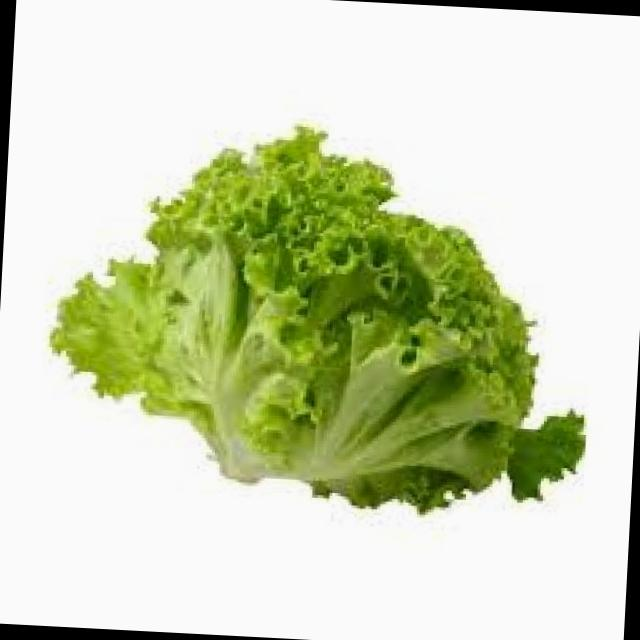Lettuce-Ready-to-Harvest: (51, 126, 583, 510)
